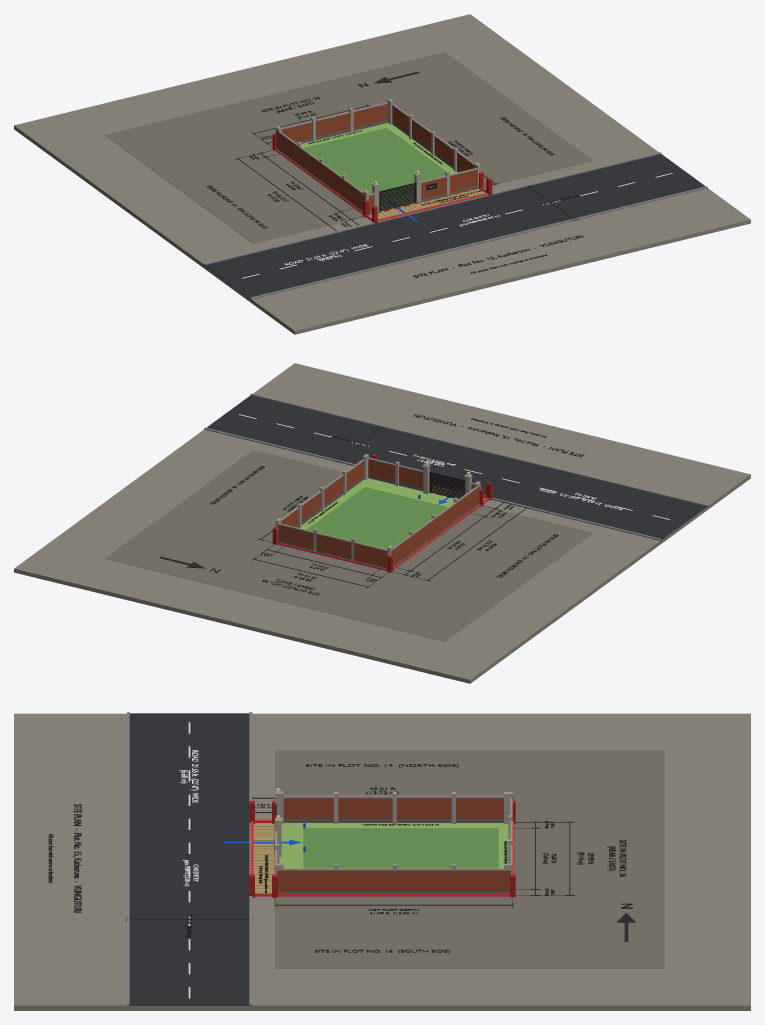
Rendered from 02_site_compound_wall.glb.
3 views of the same model, one above another, from view 1: azimuth 30°, elevation 25°; view 2: azimuth 150°, elevation 25°; view 3: azimuth 270°, elevation 25° (orthographic). The views are drawn at different scales.
Visible parts, largest first — view 1: 01_Terrain, 01_Neighbour_Plot, 05_Road, 02_Plot_Grass, 05_Kerb, Wall_Rear, Wall_North, Wall_South, Wall_Piers_and_Pillars, 02_Open_Gap, Wall_Front_with_Gate, Wall_Coping (+4 smaller); view 2: 01_Terrain, 01_Neighbour_Plot, 05_Road, 02_Plot_Grass, 05_Kerb, Wall_Rear, Wall_North, 02_Open_Gap, Wall_South, Wall_Piers_and_Pillars, 06_Dim_Line, Wall_Front_with_Gate (+3 smaller); view 3: 01_Terrain, 01_Neighbour_Plot, 05_Road, 02_Plot_Grass, Wall_South, Wall_North, 02_Open_Gap, 05_Kerb, Wall_Coping, Wall_Piers_and_Pillars, 03_Boundary_Line, 06_Dim_Line (+4 smaller).
Part boxes in pixels (x1=…): 01_Terrain: x1=14, y1=14, x2=750, y2=334; 01_Neighbour_Plot: x1=105, y1=52, x2=593, y2=243; 05_Road: x1=204, y1=154, x2=707, y2=299; 02_Plot_Grass: x1=304, y1=128, x2=445, y2=200; 05_Kerb: x1=204, y1=152, x2=707, y2=299; Wall_Rear: x1=281, y1=104, x2=387, y2=143; Wall_North: x1=276, y1=131, x2=365, y2=211; Wall_South: x1=392, y1=106, x2=474, y2=172; Wall_Piers_and_Pillars: x1=275, y1=98, x2=480, y2=212; 02_Open_Gap: x1=301, y1=123, x2=473, y2=214; Wall_Front_with_Gate: x1=369, y1=169, x2=477, y2=214; Wall_Coping: x1=275, y1=102, x2=480, y2=196; 01_Terrain: x1=14, y1=363, x2=750, y2=683; 01_Neighbour_Plot: x1=105, y1=450, x2=593, y2=641; 05_Road: x1=206, y1=395, x2=707, y2=540; 02_Plot_Grass: x1=307, y1=487, x2=446, y2=549; 05_Kerb: x1=204, y1=393, x2=707, y2=540; Wall_Rear: x1=278, y1=525, x2=387, y2=568; Wall_North: x1=391, y1=486, x2=479, y2=567; 02_Open_Gap: x1=298, y1=478, x2=453, y2=529; Wall_South: x1=281, y1=461, x2=363, y2=527; Wall_Piers_and_Pillars: x1=275, y1=454, x2=480, y2=560; 06_Dim_Line: x1=159, y1=427, x2=529, y2=588; Wall_Front_with_Gate: x1=368, y1=459, x2=474, y2=492; 01_Terrain: x1=14, y1=713, x2=750, y2=1010; 01_Neighbour_Plot: x1=275, y1=750, x2=664, y2=968; 05_Road: x1=127, y1=713, x2=251, y2=1005; 02_Plot_Grass: x1=303, y1=828, x2=498, y2=868; Wall_South: x1=277, y1=870, x2=510, y2=893; Wall_North: x1=283, y1=798, x2=503, y2=822; 02_Open_Gap: x1=279, y1=823, x2=508, y2=868; 05_Kerb: x1=127, y1=712, x2=252, y2=1005; Wall_Coping: x1=275, y1=795, x2=512, y2=870; Wall_Piers_and_Pillars: x1=275, y1=792, x2=512, y2=875; 03_Boundary_Line: x1=250, y1=819, x2=514, y2=896; 06_Dim_Line: x1=126, y1=796, x2=635, y2=941.
Bounding box in the file's own units: 36.4 × 2.68 × 38.8.
